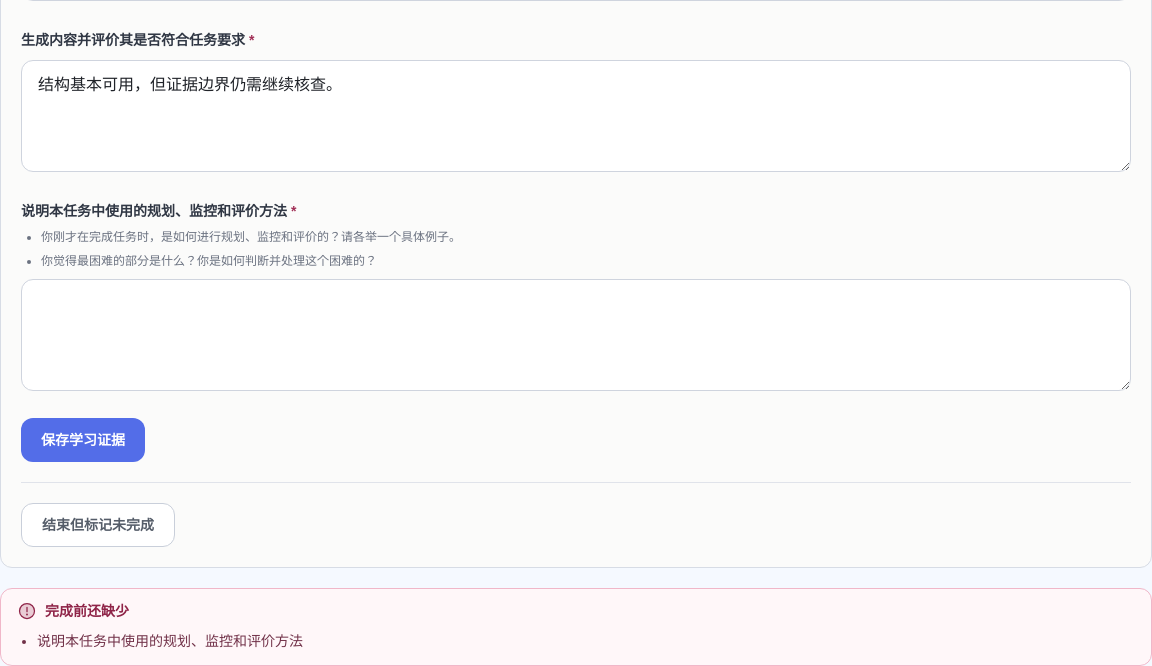
Test: learning page components › retains the Task 2 draft and never completes when the declined-evidence save fails
(page scrolled)
Step 1. Type "失败后仍要保留的表达草稿。" into the text box labelled "说明本任务中使用的规划、监控和评价方法 *" → (576, 335), box [21,279,1131,391]
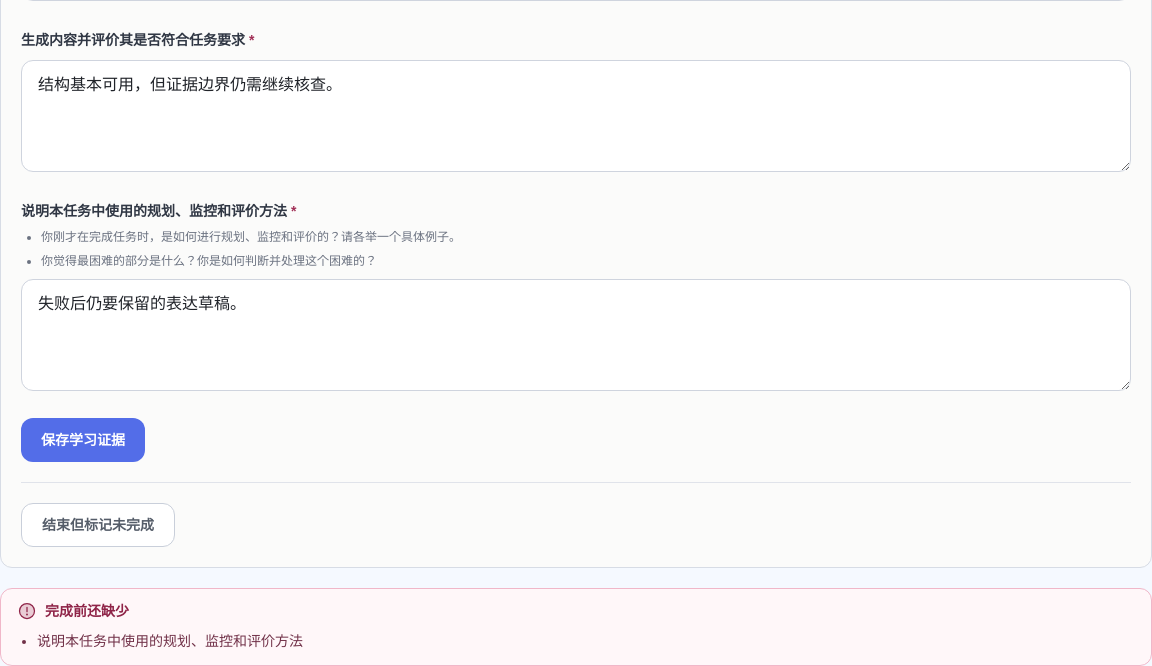
Step 2. Click the button "结束但标记未完成" → (98, 525), box [21,503,175,547]
(page scrolled)
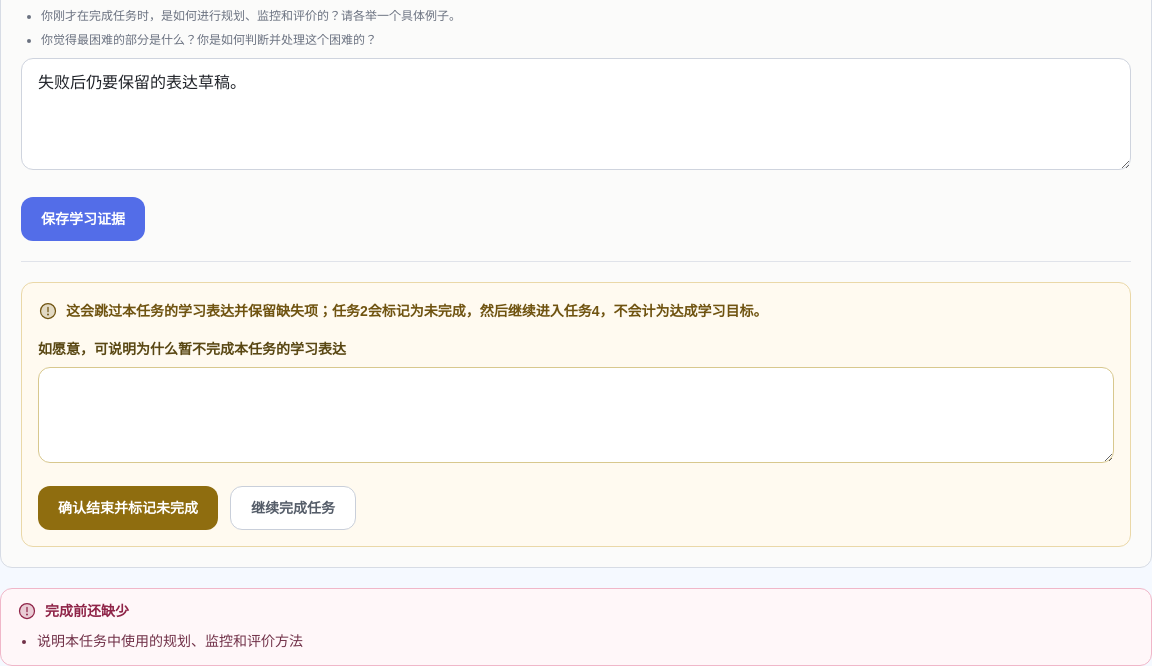
Step 3. Click the button "确认结束并标记未完成" → (128, 508), box [38,486,218,530]
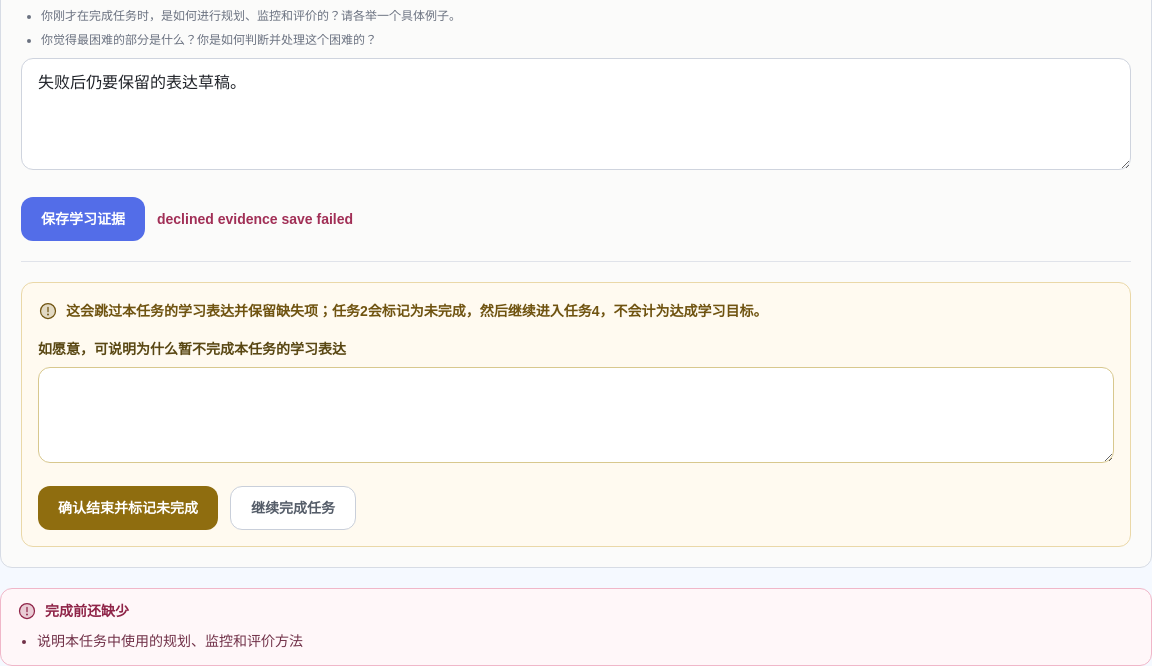
Now the text "declined evidence save failed" is shown, box [157,207,353,231]
